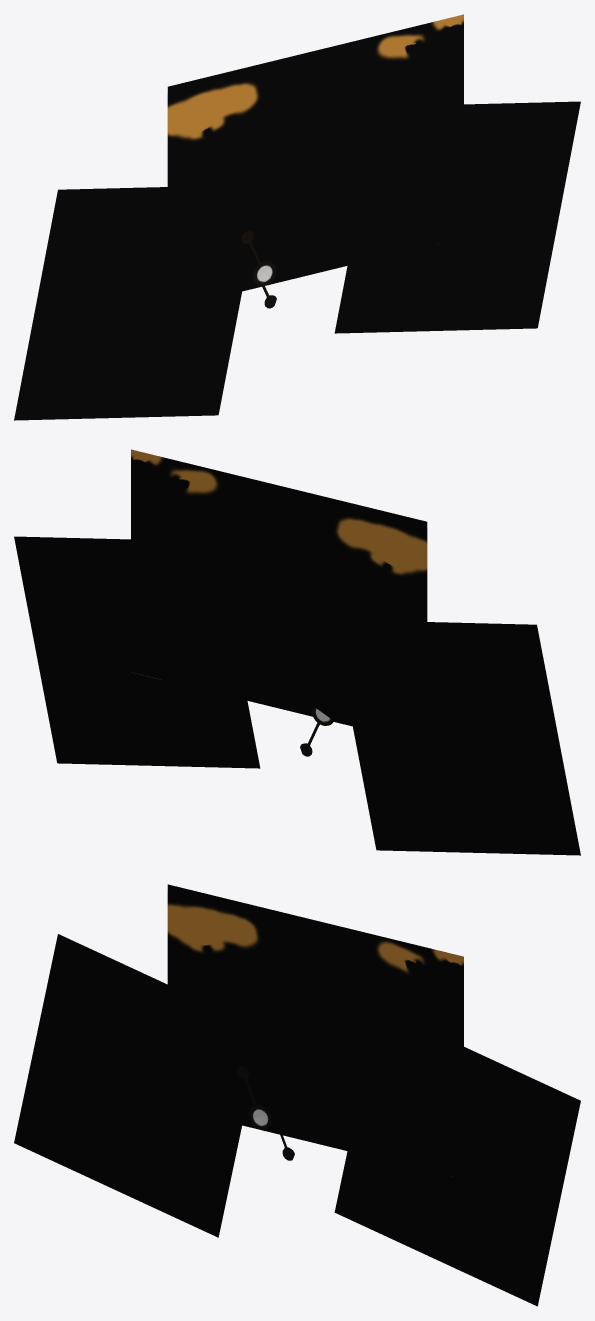
Rendered from Gat_Ciclista_Bici.fbx.
3 views of the same model, one above another, from view 1: azimuth 30°, elevation 25°; view 2: azimuth 150°, elevation 25°; view 3: azimuth 330°, elevation 25° (orthographic).
Visible parts, largest first — view 1: Gat_ciclista_Bici; view 2: Gat_ciclista_Bici; view 3: Gat_ciclista_Bici.
Part boxes in pixels (x1,y1,x2,y2): Gat_ciclista_Bici: (14,14,580,420); Gat_ciclista_Bici: (14,449,580,855); Gat_ciclista_Bici: (14,884,580,1306).
Size of the model in its own units: 6.68 by 3.84 by 0.2346.
